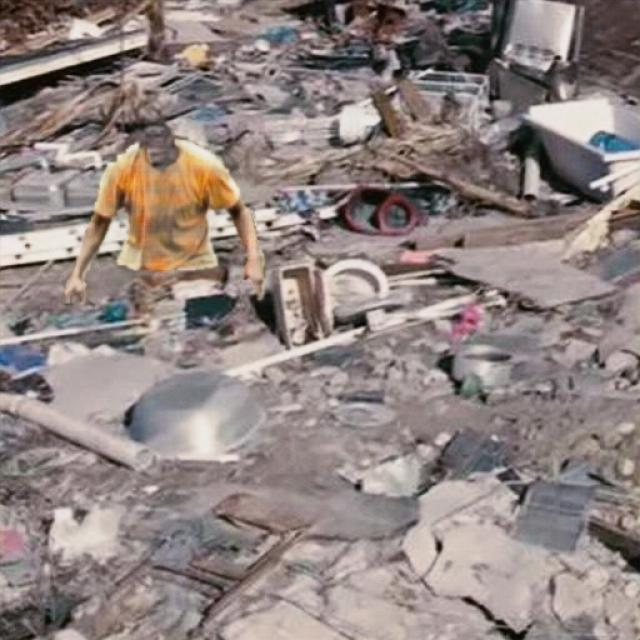Person in Rubble: (65, 136, 264, 304)
